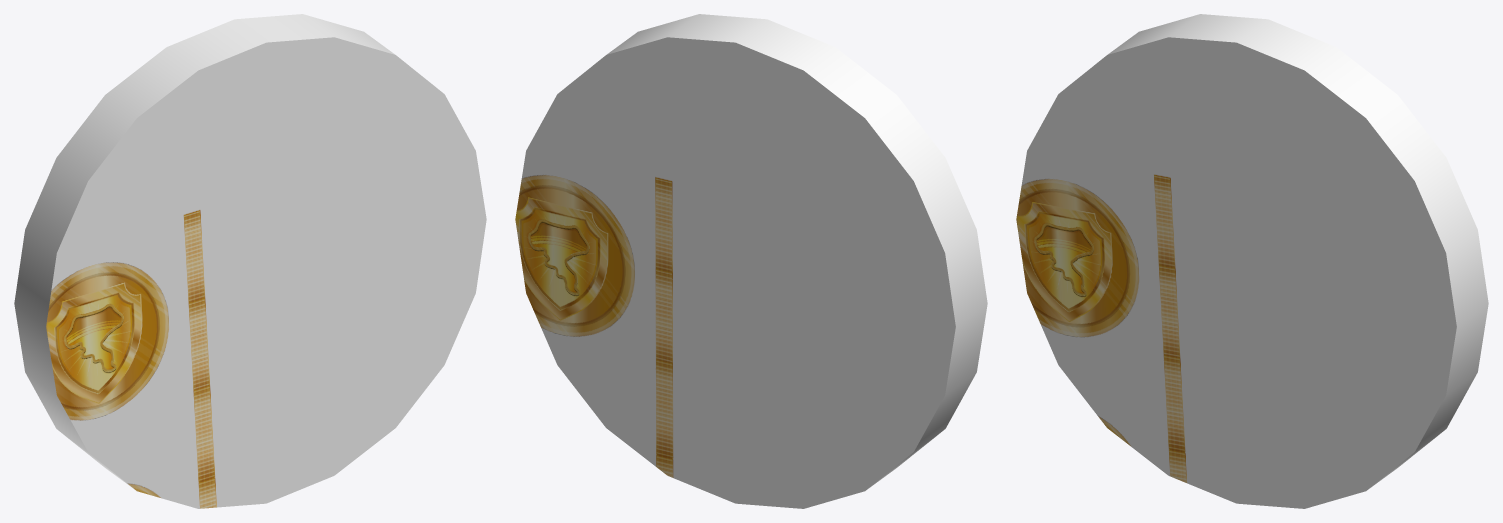
File: Monda_Prueba.fbx
The picture shows the model from 3 angles, left to right: view 1: azimuth 30°, elevation 25°; view 2: azimuth 150°, elevation 25°; view 3: azimuth 330°, elevation 25°; orthographic projection.
Parts seen in each view (by area): view 1: pCylinder1; view 2: pCylinder1; view 3: pCylinder1.
Boxes of the visible parts, <box> form: pCylinder1: <box>14,14,486,508</box>; pCylinder1: <box>515,14,987,508</box>; pCylinder1: <box>1016,14,1488,508</box>.
Size of the model in its own units: 4 by 4 by 0.5.
1 material, 1 textured.
